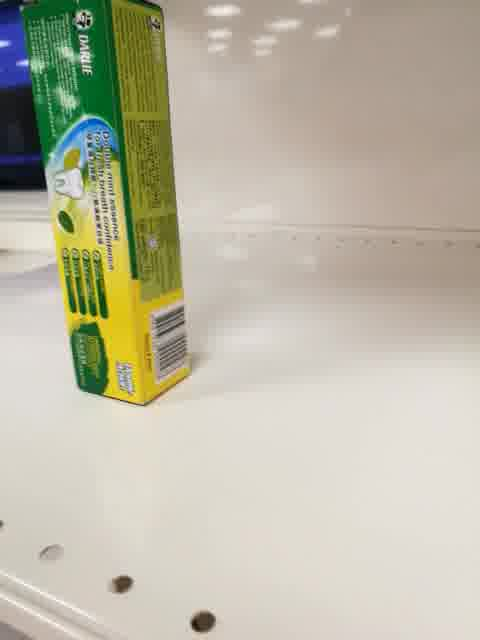toothpaste: (21, 1, 191, 407)
